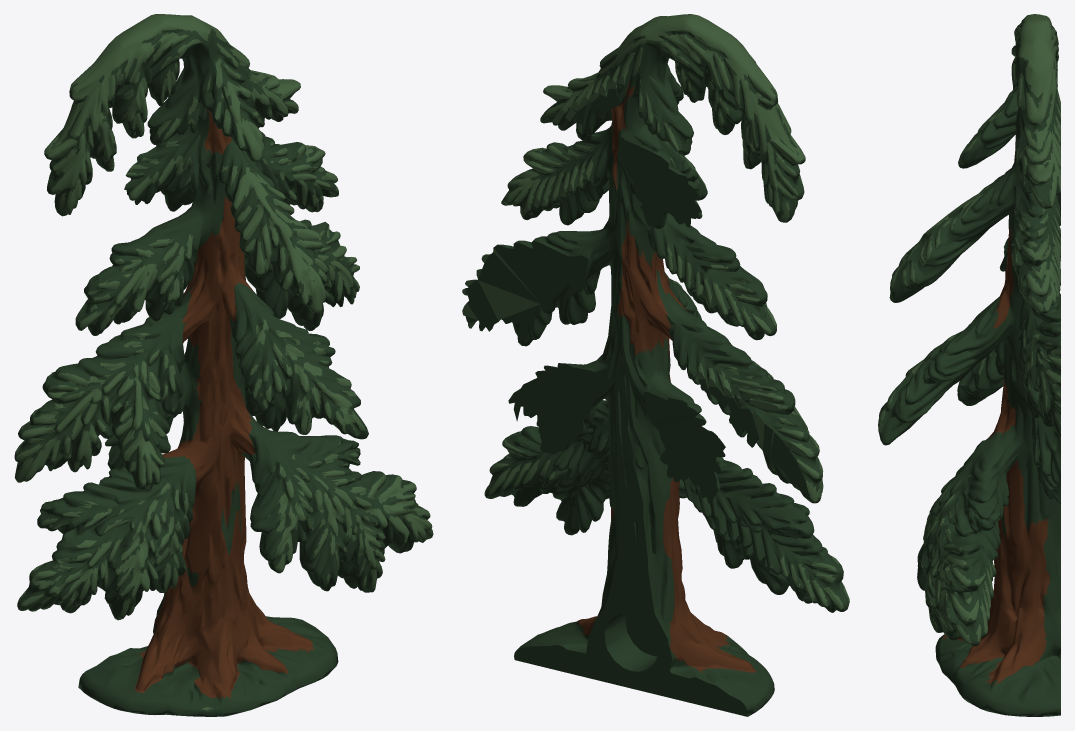
The model's file is western-hemlock-magnet.glb.
The picture shows the model from 3 angles, left to right: view 1: azimuth 30°, elevation 25°; view 2: azimuth 150°, elevation 25°; view 3: azimuth 270°, elevation 25°; orthographic projection. The views are drawn at different scales.
Visible parts, largest first — view 1: magnet; view 2: magnet; view 3: magnet.
Part boxes in pixels (box(x1,y1,x2,y2)): magnet: box(14, 14, 433, 716); magnet: box(462, 14, 849, 716); magnet: box(878, 14, 1060, 716).
Bounding box in the file's own units: 45.52 × 74.97 × 19.97.
